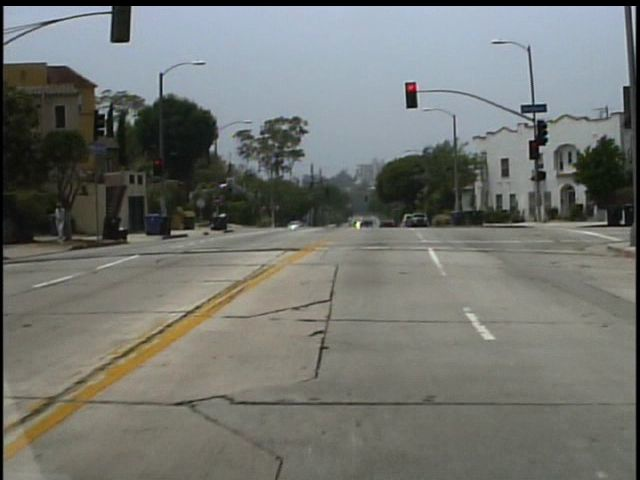person: (56, 200, 71, 242)
